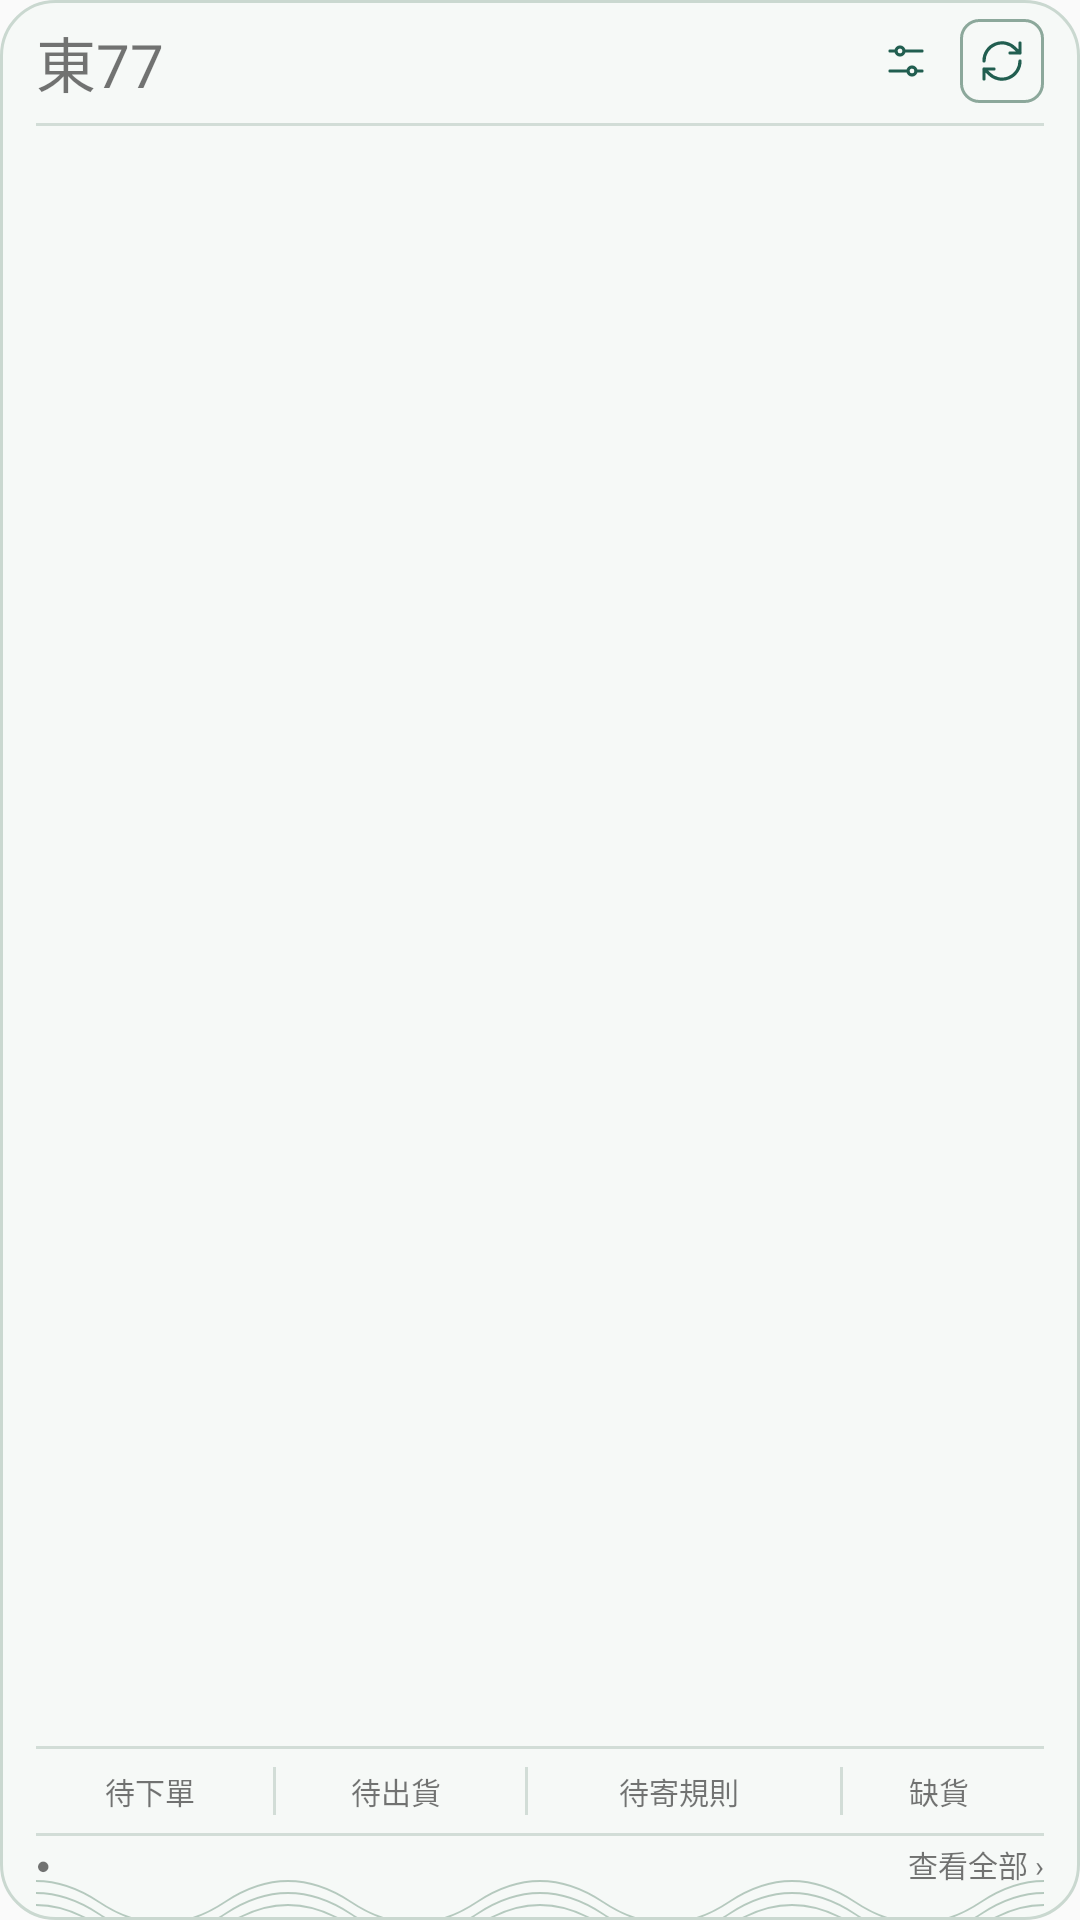

Named icons in this screenshot (1080*1920) and their centers, [x,y]:
小工具設定: [906,61]
重新整理: [1002,61]
